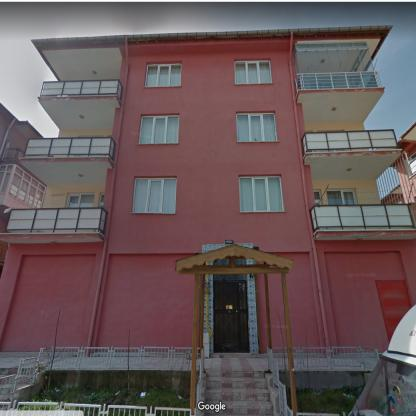door: (213, 280, 250, 352)
window: (293, 42, 379, 92), (0, 165, 46, 208), (240, 177, 284, 212), (133, 178, 177, 212), (237, 113, 277, 141), (140, 116, 178, 143), (144, 63, 180, 87), (235, 60, 271, 84), (326, 190, 356, 205), (69, 195, 95, 207), (408, 151, 416, 175), (314, 192, 321, 204)
